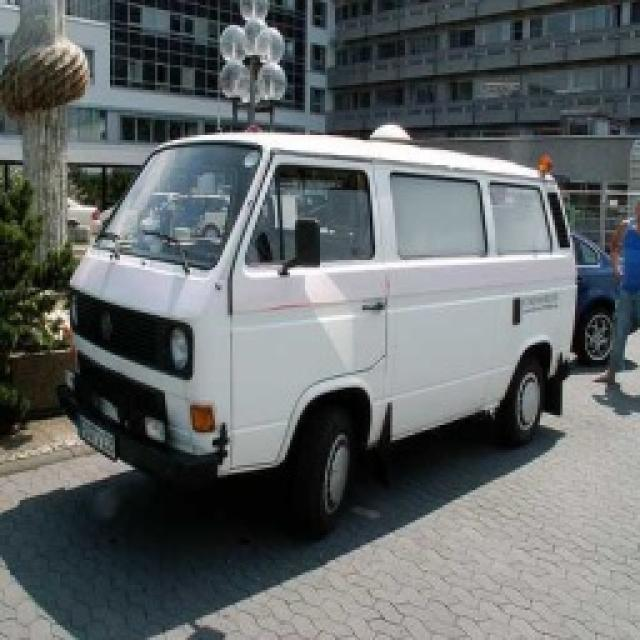ambulance: (63, 112, 615, 532)
